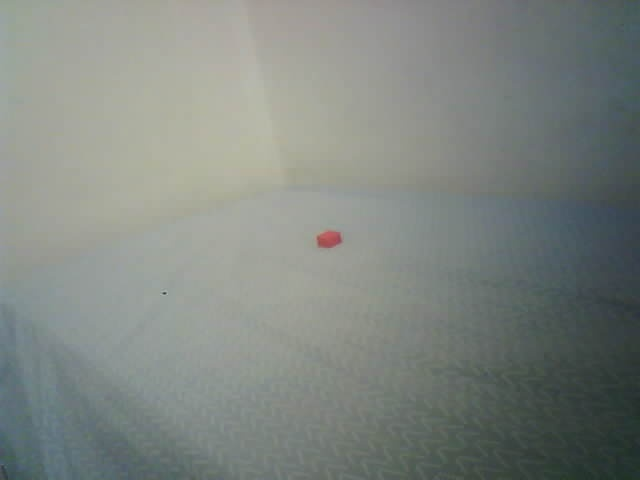lego: (316, 230, 342, 248)
